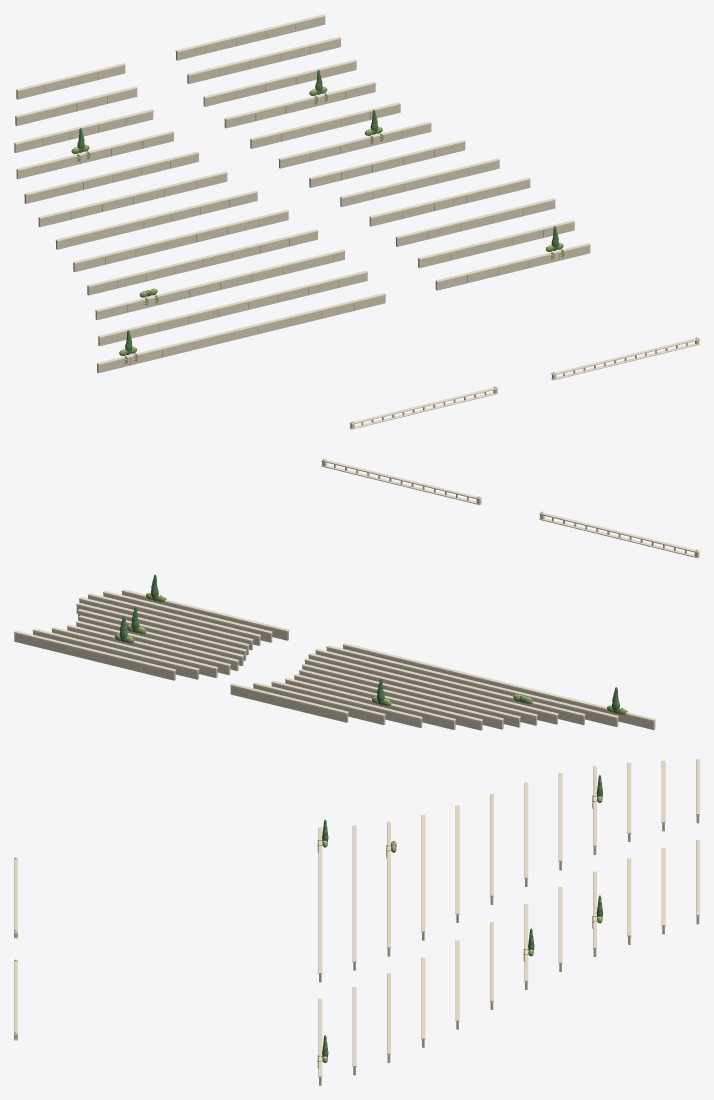
The model's file is world01-landscape-v1.glb.
3 renders of one model, top to bottom at view 1: azimuth 30°, elevation 25°; view 2: azimuth 150°, elevation 25°; view 3: azimuth 270°, elevation 25°, orthographic. The views are drawn at different scales.
Parts seen in each view (by area): view 1: Limestone warm white, Limestone pale arris, Leaf soft sage, Cypress deep olive; view 2: Limestone warm white, Limestone pale arris, Cypress deep olive, Leaf soft sage; view 3: Limestone pale arris, Limestone warm white, Cypress deep olive.
Boxes of the visible parts, bbox=[...] form: Limestone warm white: bbox=[14, 17, 699, 428]; Limestone pale arris: bbox=[14, 14, 699, 429]; Leaf soft sage: bbox=[71, 87, 564, 363]; Cypress deep olive: bbox=[77, 70, 558, 354]; Limestone warm white: bbox=[14, 459, 699, 730]; Limestone pale arris: bbox=[14, 458, 699, 721]; Cypress deep olive: bbox=[119, 574, 619, 713]; Leaf soft sage: bbox=[114, 593, 627, 714]; Limestone pale arris: bbox=[14, 759, 699, 1077]; Limestone warm white: bbox=[14, 814, 699, 1085]; Cypress deep olive: bbox=[322, 775, 603, 1057].
Size of the model in its own units: 72.13 by 17.45 by 83.92.
